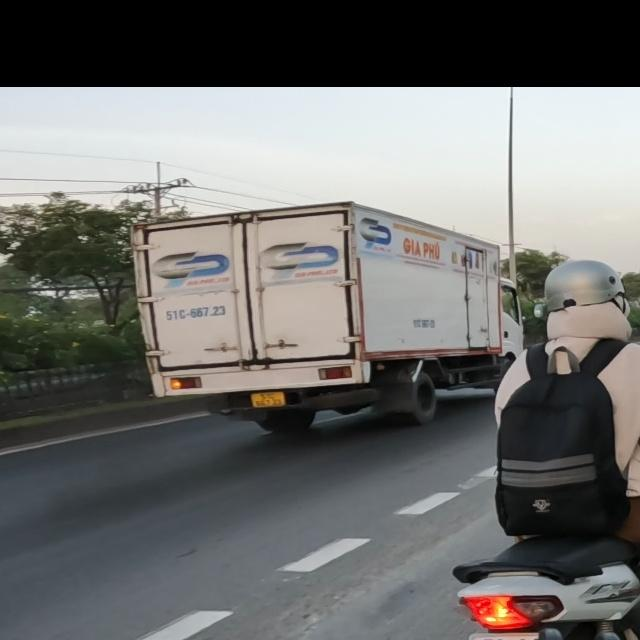license-plate: (250, 392, 286, 408)
